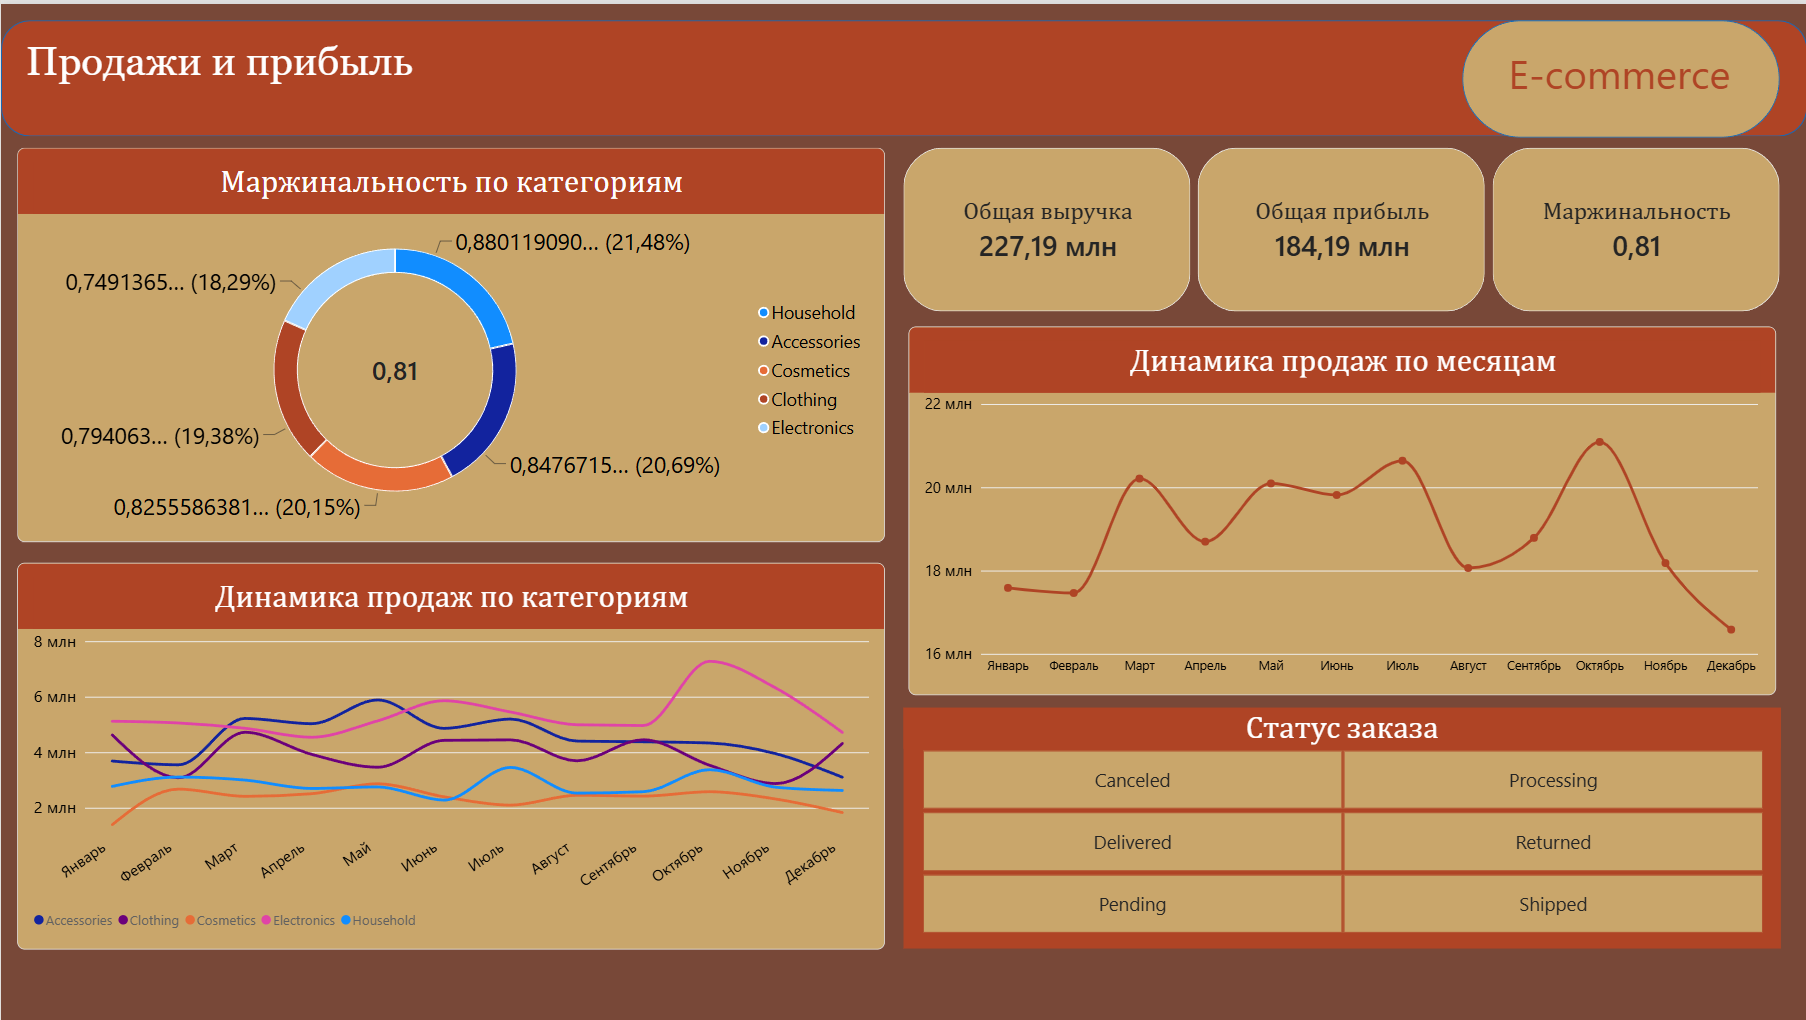

The page's visual inventory and layout, read from the dashboard file:
{"tool":"powerbi","page":{"name":"Продажи и прибыль","canvas":[1920,1080],"ordinal":0},"visuals":[{"type":"shape","box":[0,17.3,1920.3,123.6],"z":0},{"type":"textbox","box":[26.6,35.9,417.3,87.7],"z":1000},{"type":"shape","box":[1553.5,17.3,337.5,124.9],"z":2000},{"type":"textbox","box":[1602.7,43.9,245.8,71.8],"z":3000},{"type":"cardVisual","fields":{"Data":["Меры.Total Sales","Меры.Profit","Меры.Profit Margin %"]},"box":[959.4,152.6,932.6,174.5],"z":3001},{"type":"lineChart","title":"Динамика продаж по месяцам","fields":{"Category":["Student public_sales.sale_date.Изменение.Иерархия дат.Месяц","Student public_sales.sale_date.Изменение.Иерархия дат.День"],"Y":["Меры.Total Sales"]},"box":[964.3,343,922.8,391.8],"z":3002},{"type":"donutChart","title":"Маржинальность по категориям","fields":{"Category":["Student nomenclature_reference.category"],"Y":["Меры.Profit Margin %"]},"box":[17.7,152.9,922.6,419],"z":3003},{"type":"slicer","title":"Статус заказа","fields":{"Values":["Student public_order_status.status_name"]},"box":[959.4,748.2,932.6,256.3],"z":3004},{"type":"lineChart","title":"Динамика продаж по категориям","fields":{"Category":["Student public_sales.sale_date.Изменение.Иерархия дат.Месяц"],"Series":["Student nomenclature_reference.category"],"Y":["Меры.Total Sales"]},"box":[17.7,593.7,922.6,410.8],"z":3005}]}

Visuals, with their boxes in screenshot pixels (x1, y1, x2, y2), scaled from the page's 1920x1080 canvas onto the 1806x1020 screenshot:
shape: x1=0, y1=16, x2=1805, y2=133
textbox: x1=25, y1=34, x2=418, y2=117
shape: x1=1461, y1=16, x2=1779, y2=134
textbox: x1=1508, y1=41, x2=1739, y2=109
cardVisual - Меры.Total Sales x Меры.Profit: x1=902, y1=144, x2=1780, y2=309
"Динамика продаж по месяцам" lineChart: x1=907, y1=324, x2=1775, y2=694
"Маржинальность по категориям" donutChart: x1=17, y1=144, x2=884, y2=540
"Статус заказа" slicer: x1=902, y1=707, x2=1780, y2=949
"Динамика продаж по категориям" lineChart: x1=17, y1=561, x2=884, y2=949
